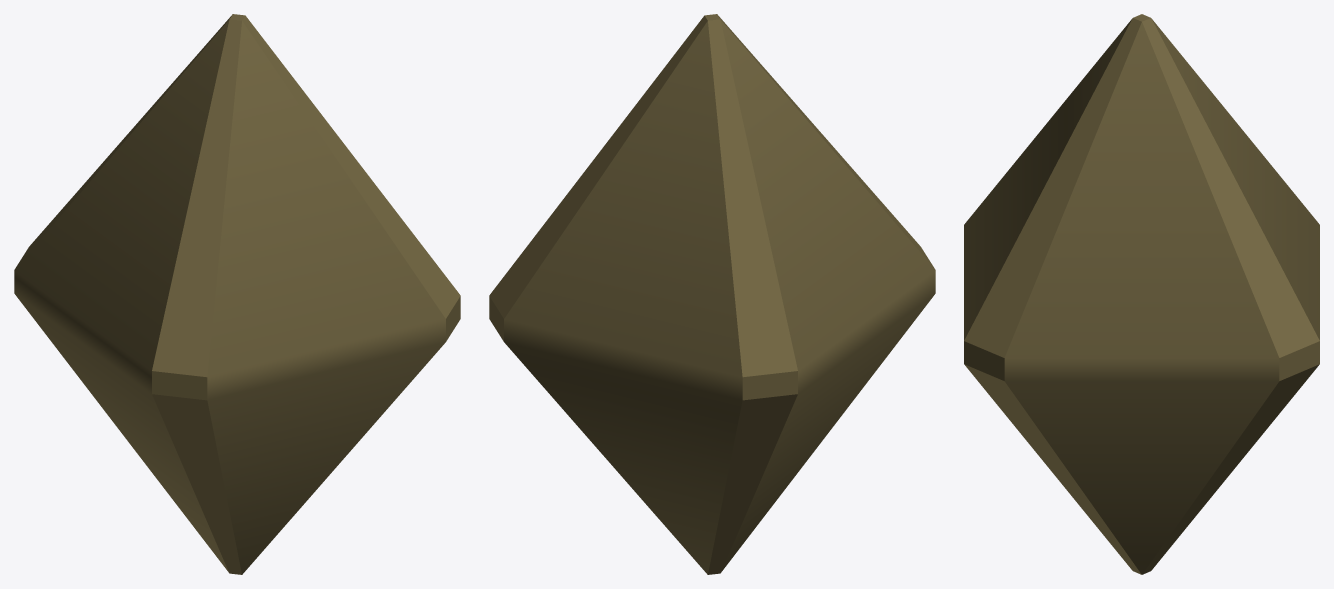
Rendered from quaternius-pirate-ui-gem-pink.glb.
3 renders of one model, left to right at view 1: azimuth 30°, elevation 25°; view 2: azimuth 150°, elevation 25°; view 3: azimuth 270°, elevation 25°, orthographic.
Parts seen in each view (by area): view 1: UI_Gem_Pink; view 2: UI_Gem_Pink; view 3: UI_Gem_Pink.
Part boxes in pixels (bbox=[...]): UI_Gem_Pink: bbox=[14, 14, 460, 574]; UI_Gem_Pink: bbox=[489, 14, 935, 574]; UI_Gem_Pink: bbox=[964, 14, 1319, 574].
Bounding box in the file's own units: 0.4229 × 0.7251 × 0.4229.
1 material, 1 textured.
